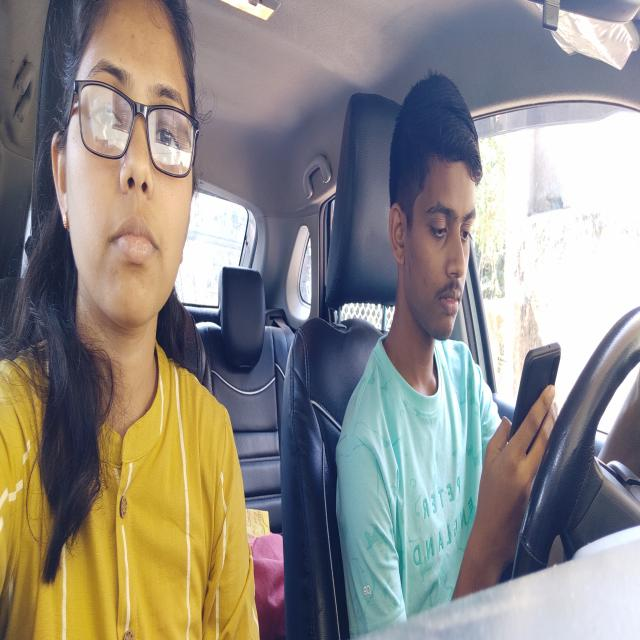mobile: (507, 335, 562, 471)
person: (48, 0, 202, 339), (386, 68, 483, 348)
